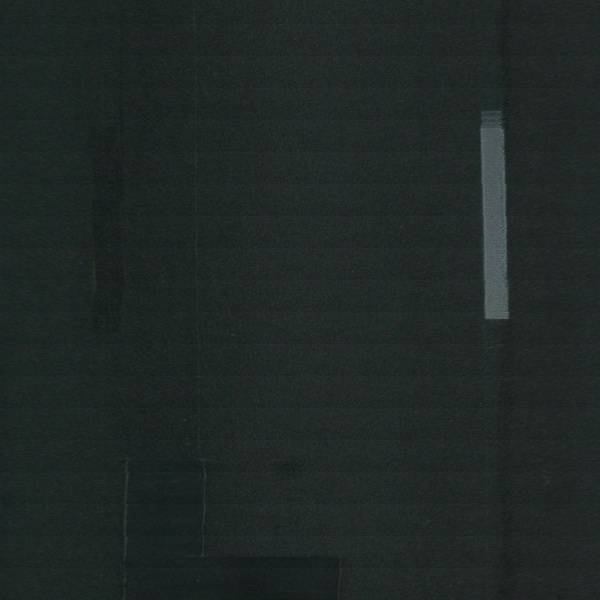road_damage: (118, 454, 348, 600)
